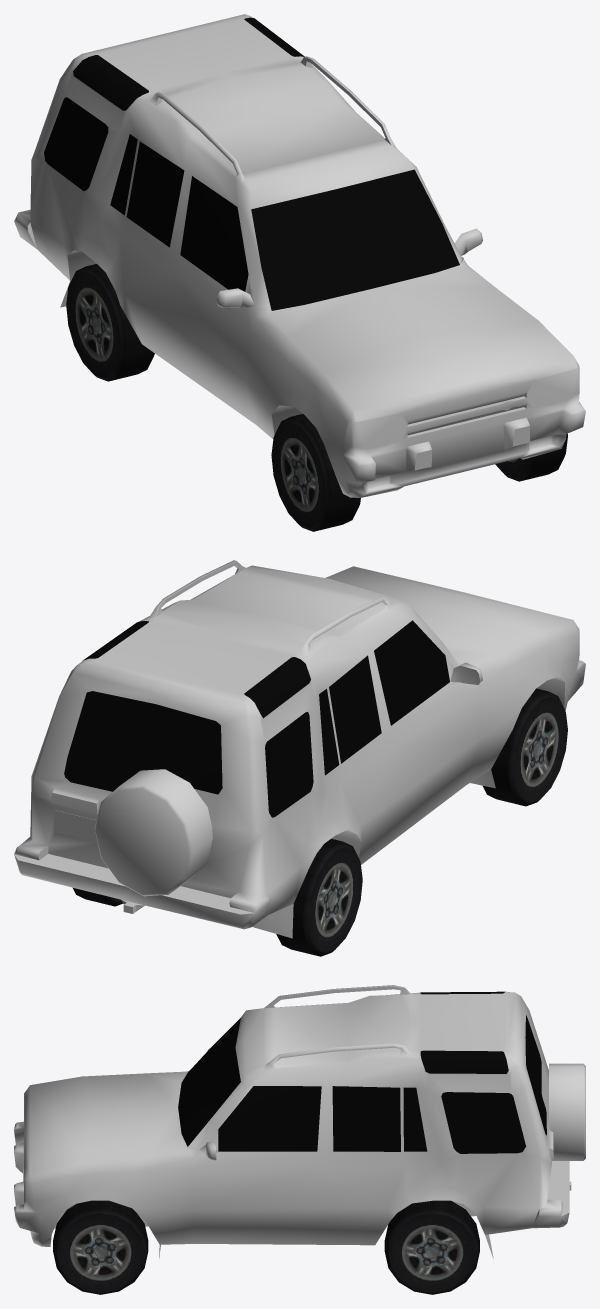
File: rover.FBX
3 views of the same model, one above another, from view 1: azimuth 30°, elevation 25°; view 2: azimuth 150°, elevation 25°; view 3: azimuth 270°, elevation 25° (orthographic). The views are drawn at different scales.
Visible parts, largest first — view 1: LDBluB, LDBluG, LDBluT03, LDBluT02, LDBluT01; view 2: LDBluB, LDBluG, LDBluT02, LDBluT03; view 3: LDBluB, LDBluG, LDBluT01, LDBluT00.
Boxes of the visible parts, bbox=[...] form: LDBluB: bbox=[14, 14, 585, 497]; LDBluG: bbox=[44, 17, 459, 310]; LDBluT03: bbox=[271, 414, 360, 531]; LDBluT02: bbox=[66, 264, 154, 381]; LDBluT01: bbox=[495, 433, 567, 481]; LDBluB: bbox=[14, 560, 585, 938]; LDBluG: bbox=[64, 620, 449, 817]; LDBluT02: bbox=[276, 838, 362, 956]; LDBluT03: bbox=[483, 688, 567, 806]; LDBluB: bbox=[14, 985, 585, 1258]; LDBluG: bbox=[178, 991, 546, 1153]; LDBluT01: bbox=[53, 1200, 148, 1294]; LDBluT00: bbox=[384, 1200, 479, 1294].
Size of the model in its own units: 76.14 by 79.69 by 177.
